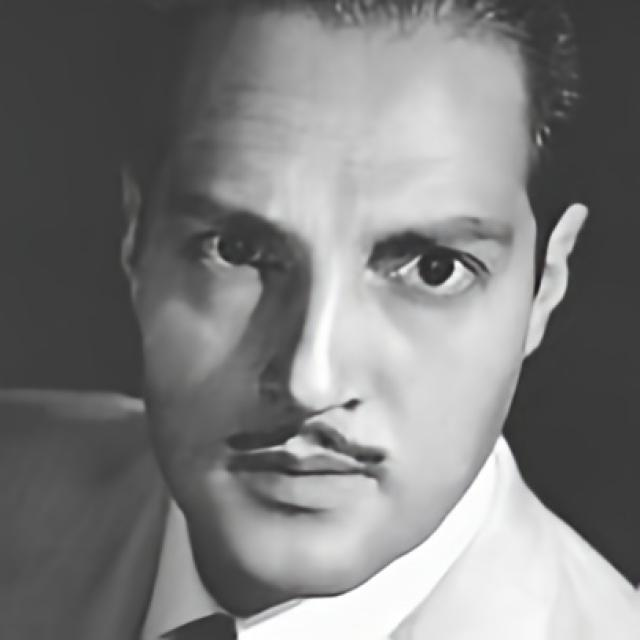anger: (138, 47, 532, 588)
